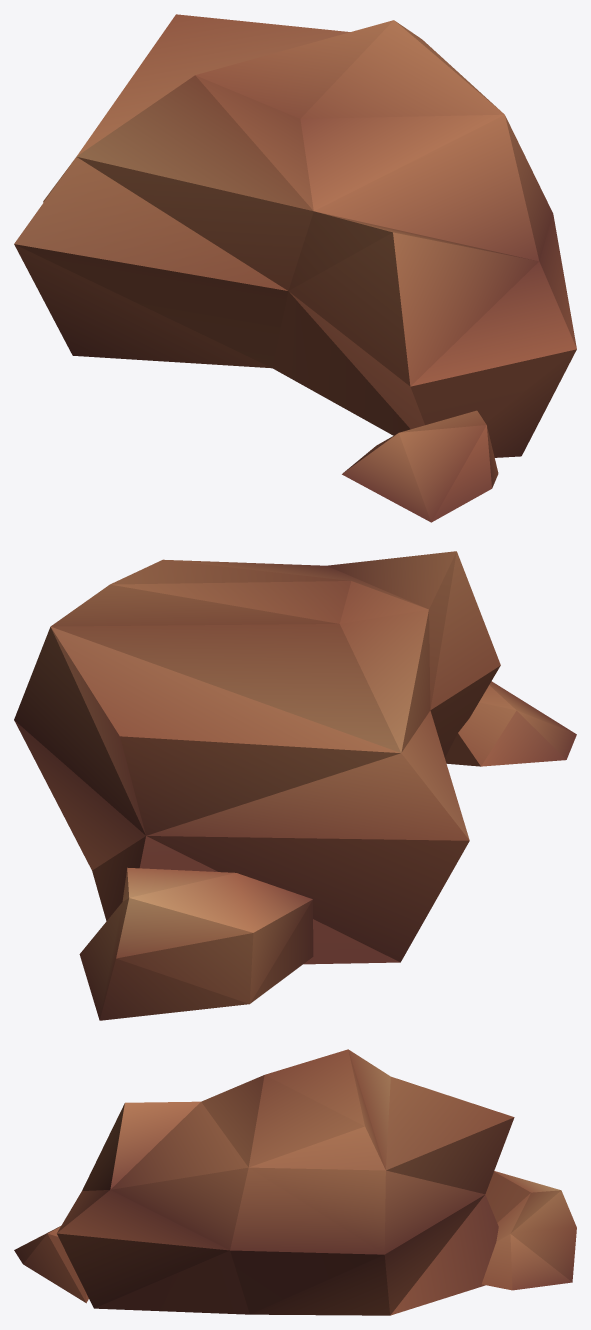
Rendered from Mixed_Rock_05.fbx.
The picture shows the model from 3 angles, top to bottom: view 1: azimuth 30°, elevation 25°; view 2: azimuth 150°, elevation 25°; view 3: azimuth 270°, elevation 25°; orthographic projection. The views are drawn at different scales.
Parts seen in each view (by area): view 1: Rock_05.001; view 2: Rock_05.001; view 3: Rock_05.001.
Boxes of the visible parts, x1,y1,x2,y2 form: Rock_05.001: [14, 14, 576, 522]; Rock_05.001: [14, 551, 576, 1020]; Rock_05.001: [14, 1049, 576, 1315].
Size of the model in its own units: 364 by 231 by 558.
